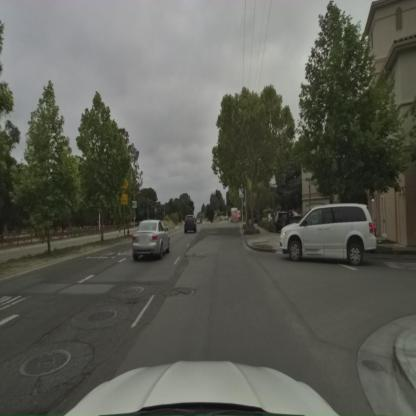car: (279, 204, 381, 267), (132, 221, 172, 260), (184, 216, 198, 234)
